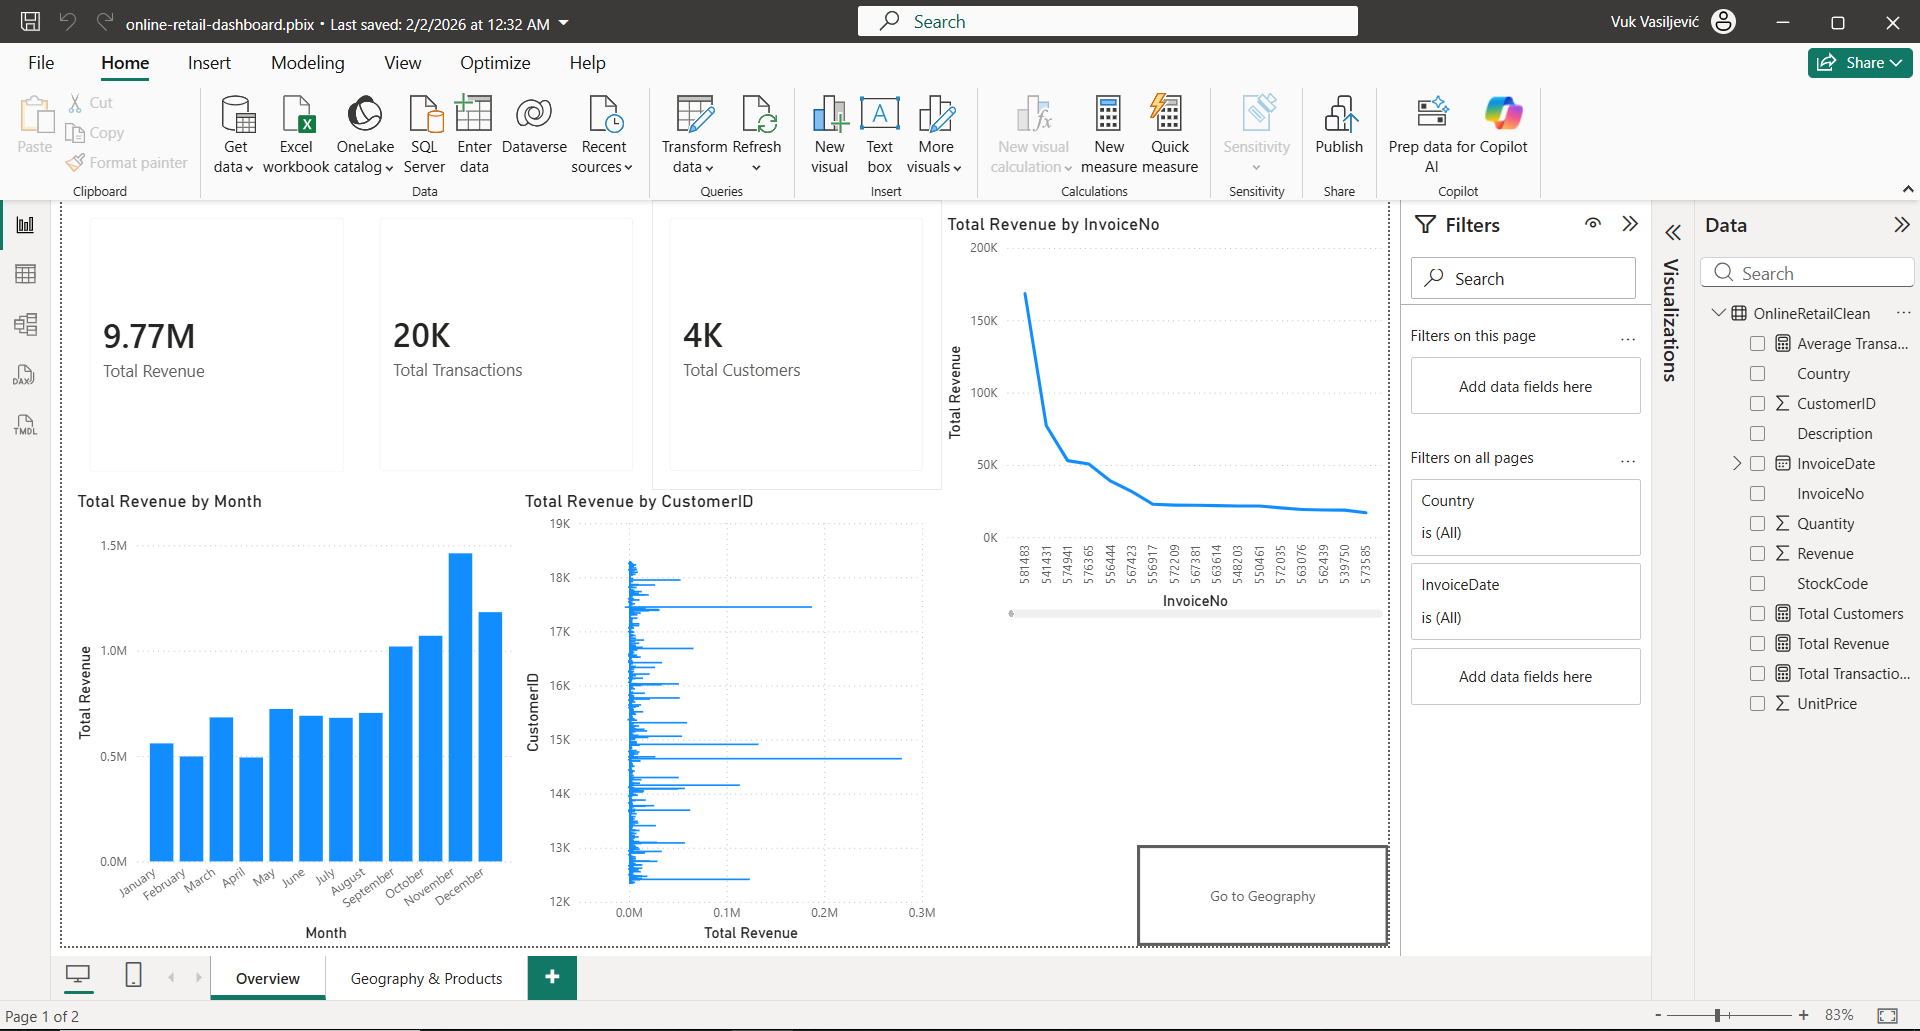

The dashboard page shown, as its layout file describes it:
{"tool":"powerbi","page":{"name":"Overview","canvas":[1280,720],"ordinal":0},"visuals":[{"type":"cardVisual","fields":{"Data":["OnlineRetailClean.Total Revenue"]},"box":[10,0,280,280],"z":0},{"type":"cardVisual","fields":{"Data":["OnlineRetailClean.Total Transactions"]},"box":[289.5,0,279.9,279.9],"z":1000},{"type":"cardVisual","fields":{"Data":["OnlineRetailClean.Total Customers"]},"box":[569.4,0,279.9,279.9],"z":2000},{"type":"lineChart","fields":{"Category":["OnlineRetailClean.InvoiceNo"],"Y":["OnlineRetailClean.Total Revenue"]},"box":[849.4,13.7,430.9,395.2],"z":3000},{"type":"actionButton","box":[1037.4,623,242.9,97.4],"z":4000},{"type":"clusteredColumnChart","fields":{"Category":["OnlineRetailClean.InvoiceDate.Variation.Date Hierarchy.Month"],"Y":["OnlineRetailClean.Total Revenue"]},"box":[9.6,279.9,432.2,440.5],"z":5000},{"type":"clusteredBarChart","fields":{"Category":["OnlineRetailClean.CustomerID"],"Y":["OnlineRetailClean.Total Revenue"]},"box":[441.9,279.9,407.5,440.5],"z":6000}]}

Visuals, with their boxes on the page's 1280x720 design canvas (x1, y1, x2, y2). These are canvas units, not pixel positions in the 1920x1031 screenshot, which may show the page scaled, cropped or inside an application window:
cardVisual - OnlineRetailClean.Total Revenue: bbox=(10, 0, 290, 280)
cardVisual - OnlineRetailClean.Total Transactions: bbox=(290, 0, 569, 280)
cardVisual - OnlineRetailClean.Total Customers: bbox=(569, 0, 849, 280)
lineChart - OnlineRetailClean.InvoiceNo x OnlineRetailClean.Total Revenue: bbox=(849, 14, 1280, 409)
actionButton: bbox=(1037, 623, 1280, 720)
clusteredColumnChart - OnlineRetailClean.InvoiceDate.Variation.Date Hierarchy.Month x OnlineRetailClean.Total Revenue: bbox=(10, 280, 442, 720)
clusteredBarChart - OnlineRetailClean.CustomerID x OnlineRetailClean.Total Revenue: bbox=(442, 280, 849, 720)
